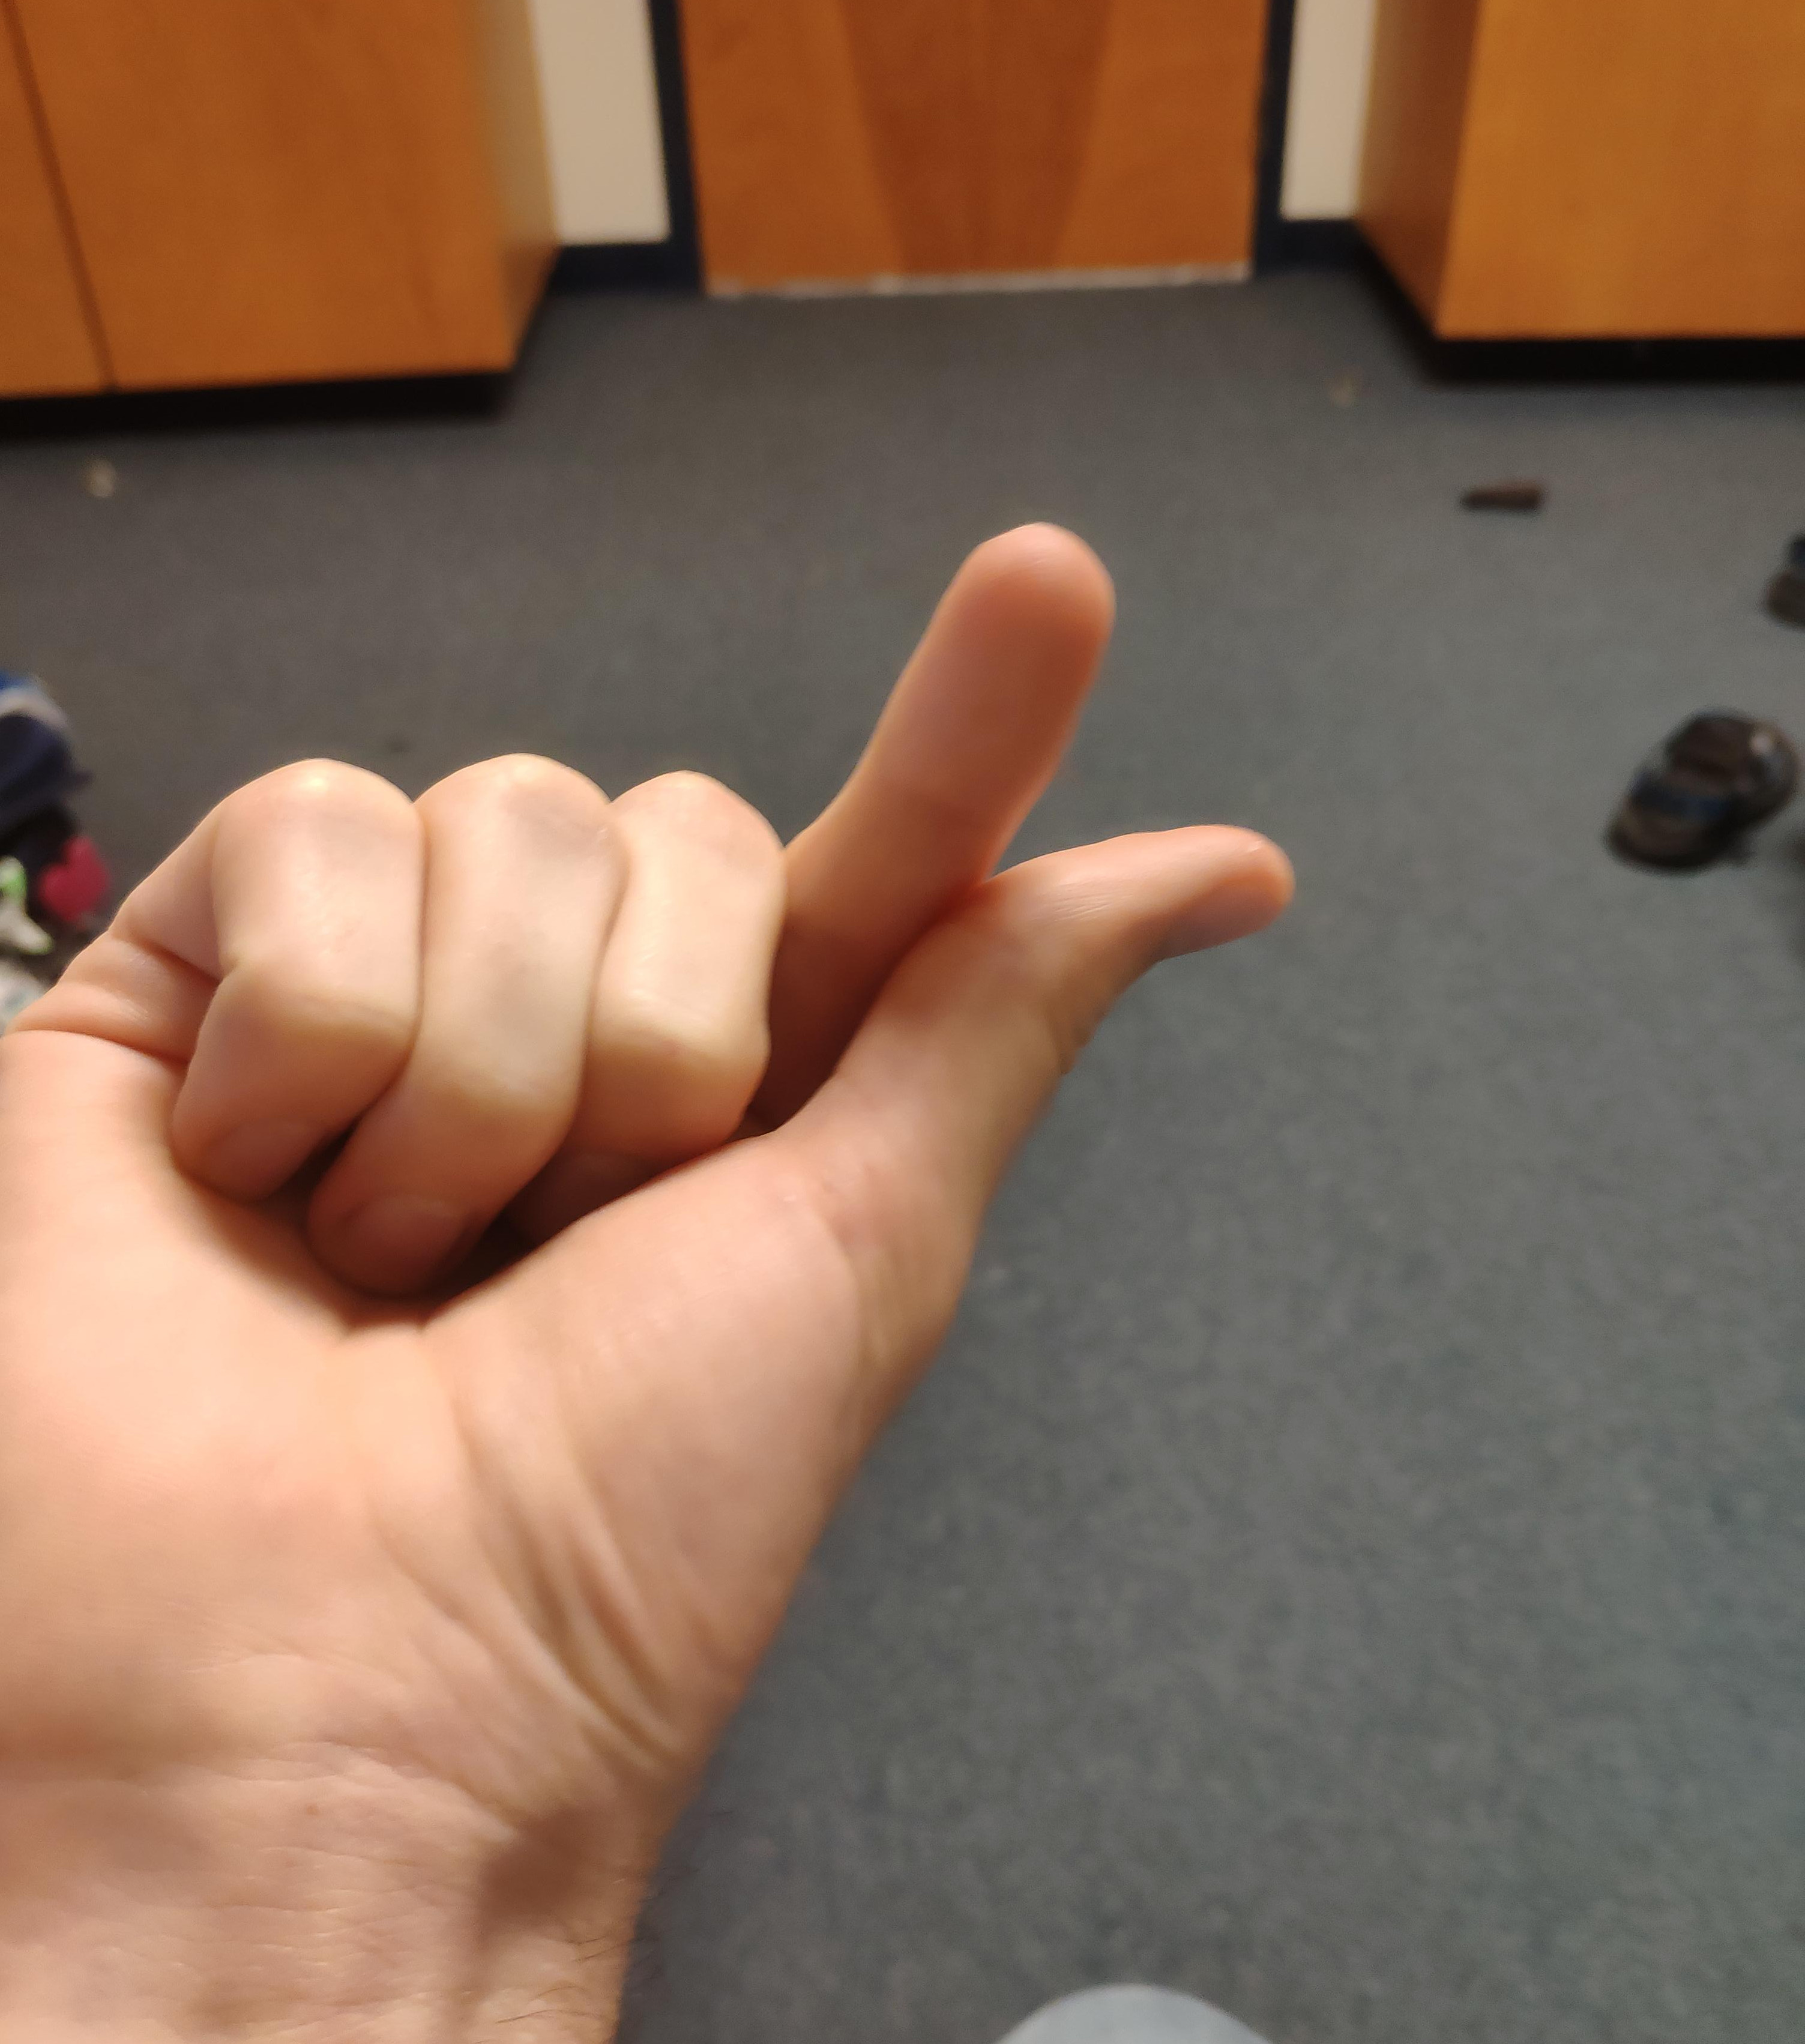heart gesture: (808, 512, 1307, 988)
